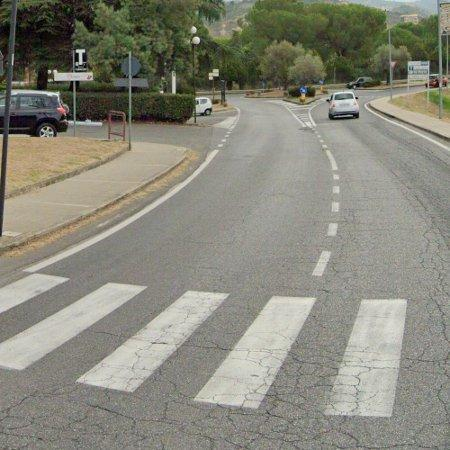crosswalks: (0, 270, 409, 420)
